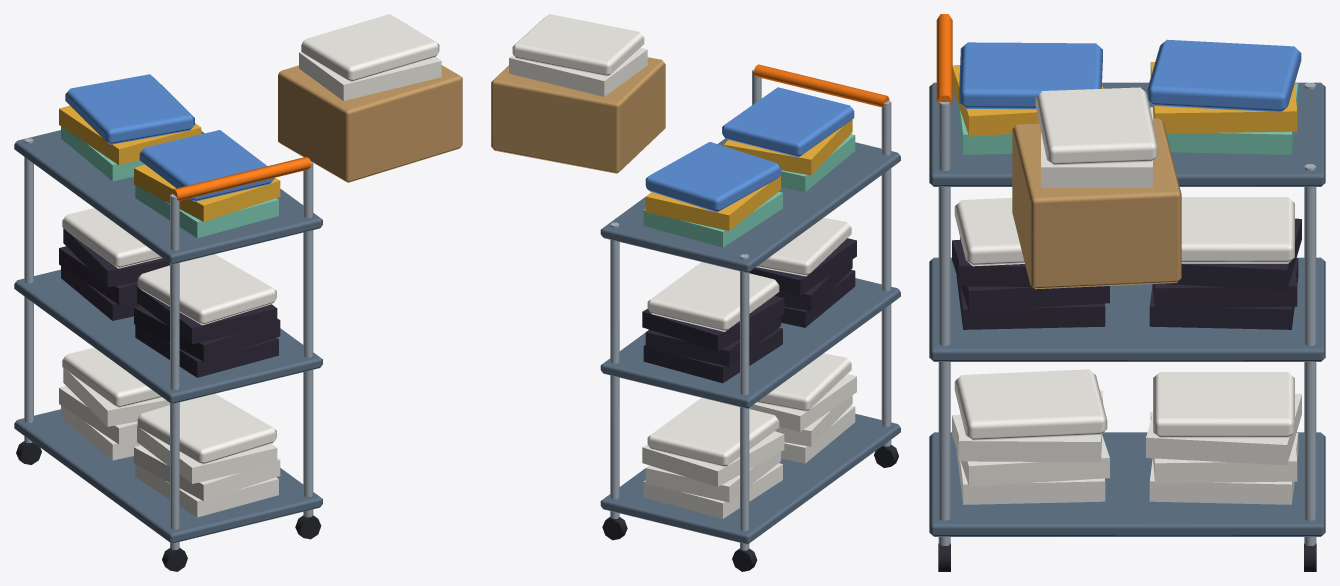
The model's file is station_buffer_ausstattung_2_2.glb.
3 renders of one model, left to right at view 1: azimuth 30°, elevation 25°; view 2: azimuth 150°, elevation 25°; view 3: azimuth 270°, elevation 25°, orthographic. The views are drawn at different scales.
Parts seen in each view (by area): view 1: station_buffer_ausstattung_2_2; view 2: station_buffer_ausstattung_2_2; view 3: station_buffer_ausstattung_2_2.
Part boxes in pixels (x1,y1,x2,y2): station_buffer_ausstattung_2_2: (14, 14, 462, 571); station_buffer_ausstattung_2_2: (491, 14, 900, 571); station_buffer_ausstattung_2_2: (929, 14, 1325, 571).
Size of the model in its own units: 0.9536 by 1.15 by 0.78.
